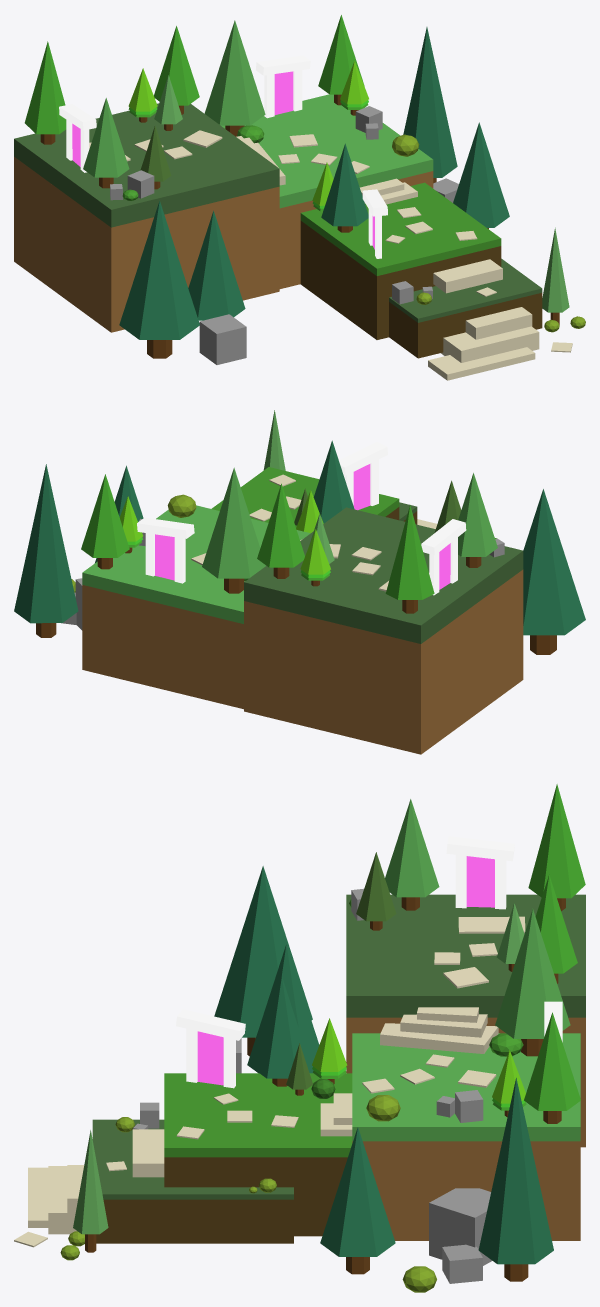
The model's file is environment2.glb.
3 renders of one model, top to bottom at view 1: azimuth 30°, elevation 25°; view 2: azimuth 150°, elevation 25°; view 3: azimuth 270°, elevation 25°, orthographic. The views are drawn at different scales.
Visible parts, largest first — view 1: terrains.001, terrains.002, terrains, terrains.003, trees.008, trees.014, trees.003, trees.009, trees.005, trees.012, trees.010, trees.006 (+20 smaller); view 2: terrains.001, terrains, trees.008, trees.014, trees.003, terrains.002, trees.012, trees.001, trees, trees.006, trees.010, trees.018 (+13 smaller); view 3: terrains, terrains.001, terrains.002, terrains.003, trees.014, trees.008, trees.005, trees.003, trees.012, rocks.004, trees, trees.006 (+26 smaller).
Boxes of the visible parts, x1,y1,x2,y2 form: terrains.001: (14,103,279,332); terrains.002: (300,182,501,339); terrains: (221,94,433,288); terrains.003: (389,258,542,358); trees.008: (119,201,199,358); trees.014: (403,27,457,183); trees.003: (204,20,265,136); trees.009: (188,211,245,320); trees.005: (453,122,509,228); trees.012: (24,41,66,144); trees.010: (321,143,368,232); trees.006: (83,98,129,188); terrains.001: (244,507,523,754); terrains: (82,505,310,709); trees.008: (523,489,585,654); trees.014: (14,464,78,637); trees.003: (202,467,265,593); terrains.002: (211,467,399,522); trees.012: (385,505,434,613); trees.001: (257,483,304,578); trees: (81,474,129,569); trees.006: (458,473,497,567); trees.010: (313,440,354,523); trees.018: (300,529,330,586); terrains: (352,1033,580,1240); terrains.001: (346,894,585,1147); terrains.002: (164,1073,352,1236); terrains.003: (92,1119,293,1243); trees.014: (478,1078,553,1281); trees.008: (214,866,312,1056); trees.005: (320,1127,395,1274); trees.003: (495,908,570,1056); trees.012: (528,784,585,911); rocks.004: (429,1188,492,1265); trees: (524,1012,580,1123); trees.006: (385,799,439,910).
Size of what is drawn, in the model's own units: 29.18 by 14.6 by 26.96.
